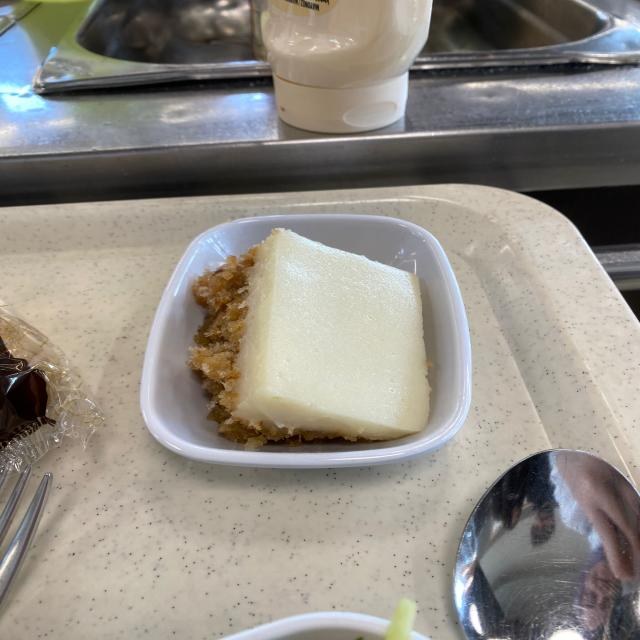yan_yemek: (186, 226, 432, 449)
